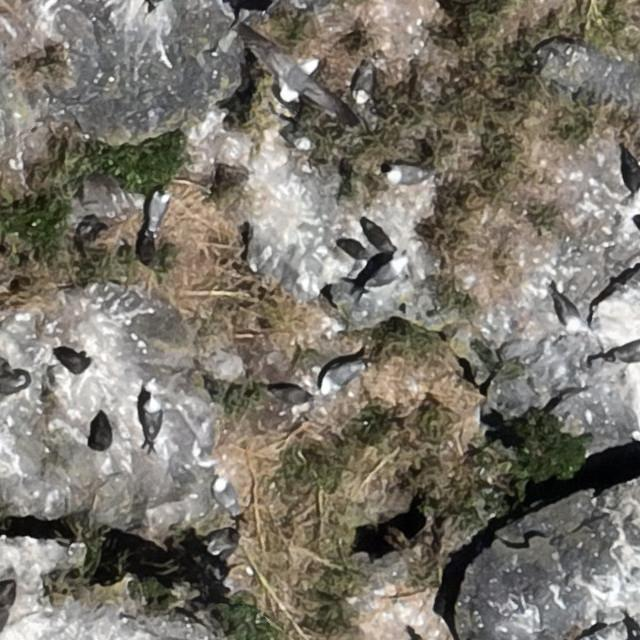F: (267, 48, 336, 116)
umineko: (318, 358, 371, 396), (364, 256, 408, 289), (294, 136, 336, 163), (214, 476, 242, 514), (53, 352, 89, 375), (354, 65, 375, 104), (560, 297, 582, 330), (145, 398, 163, 436), (149, 194, 169, 227), (389, 166, 425, 183)
